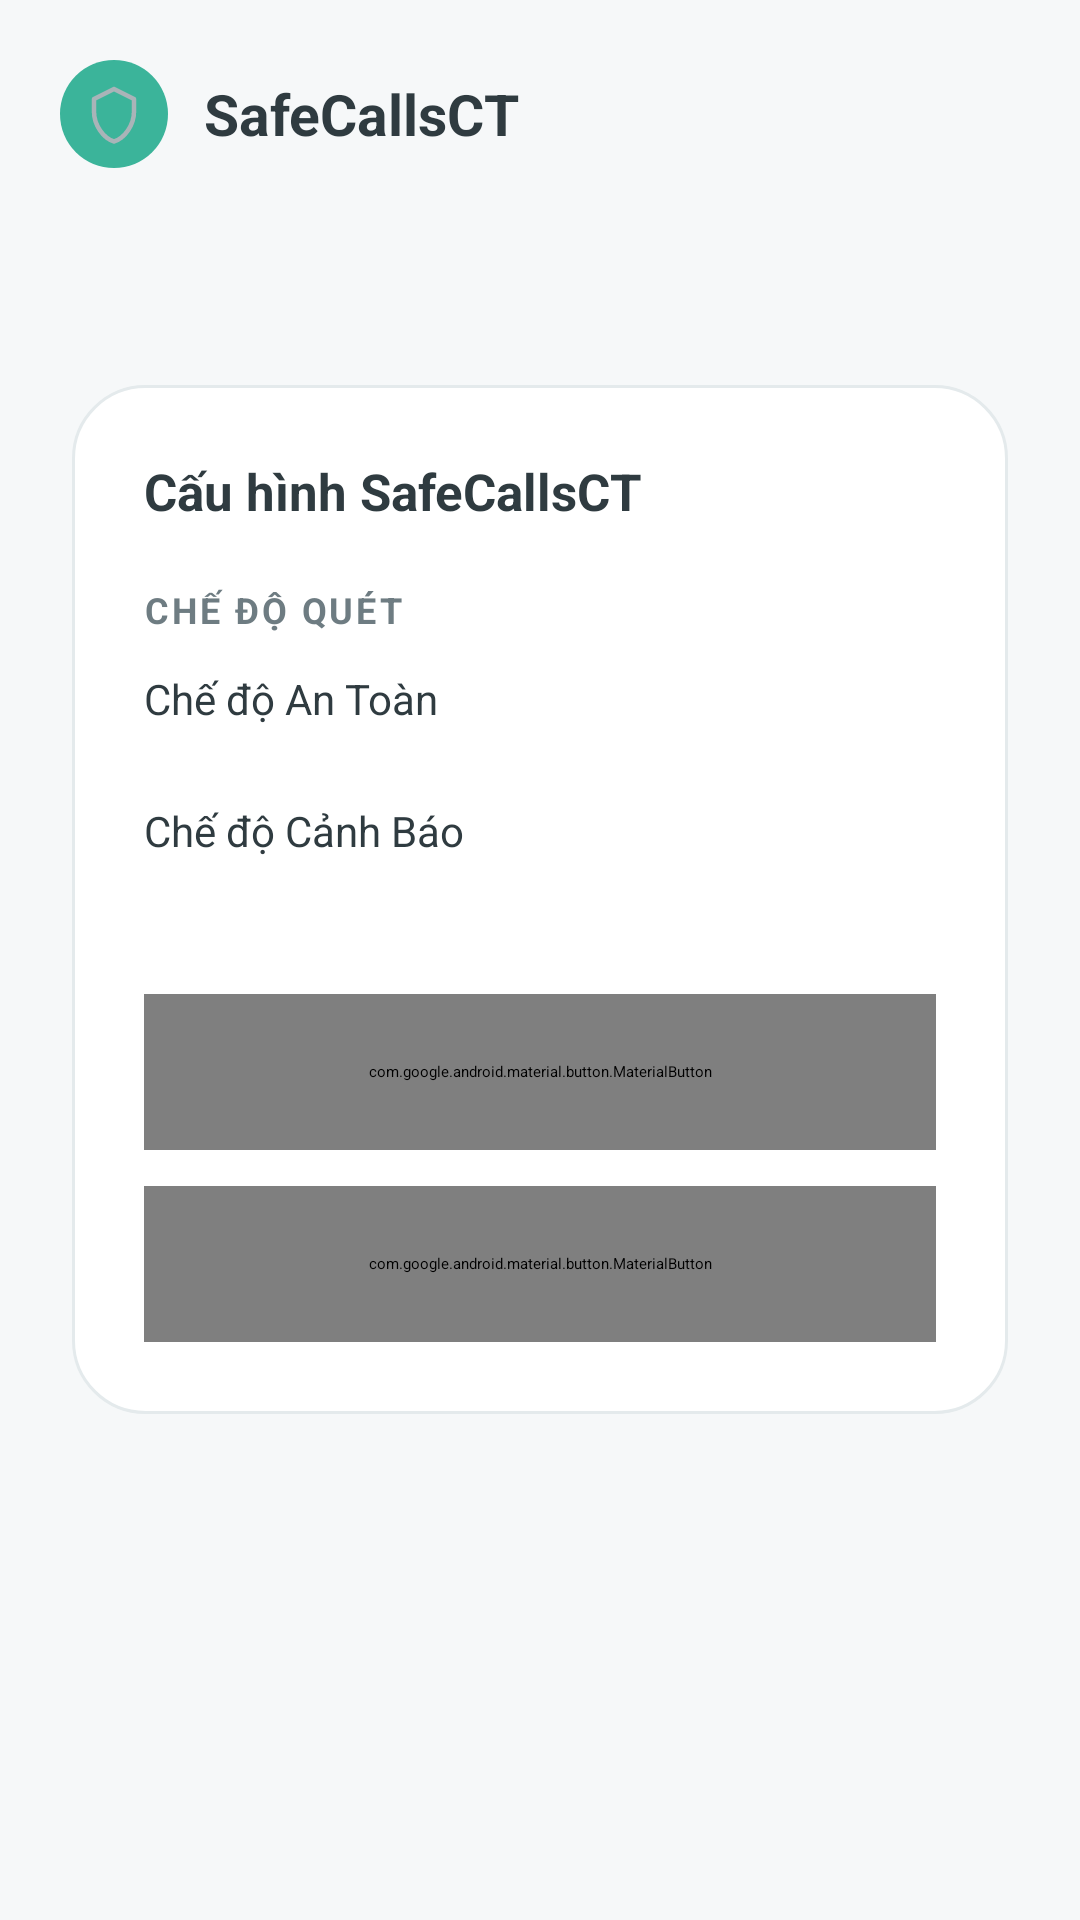

Named icons in this screenshot (1080*1920) and their bounding boxes, [x1=x1, y1=y1, x2=x2, y2=y2]:
shield: [x1=60, y1=60, x2=168, y2=168]
